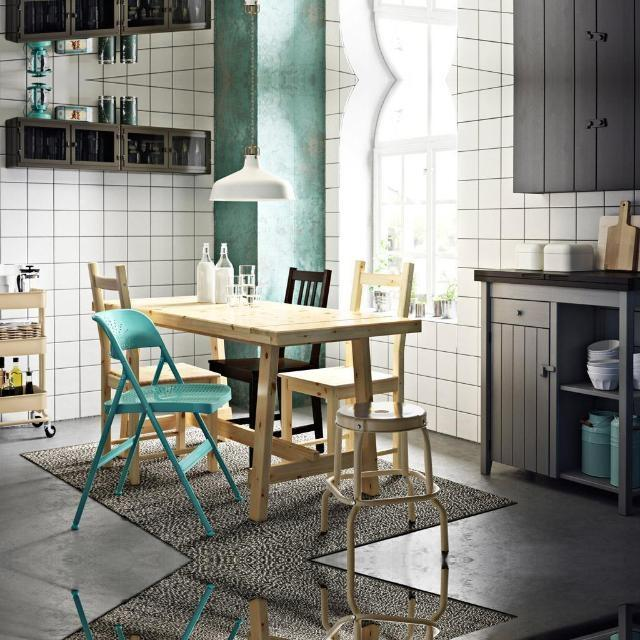obstacle: (90, 290, 424, 522), (68, 307, 245, 539), (89, 597, 424, 640), (68, 581, 245, 640)
